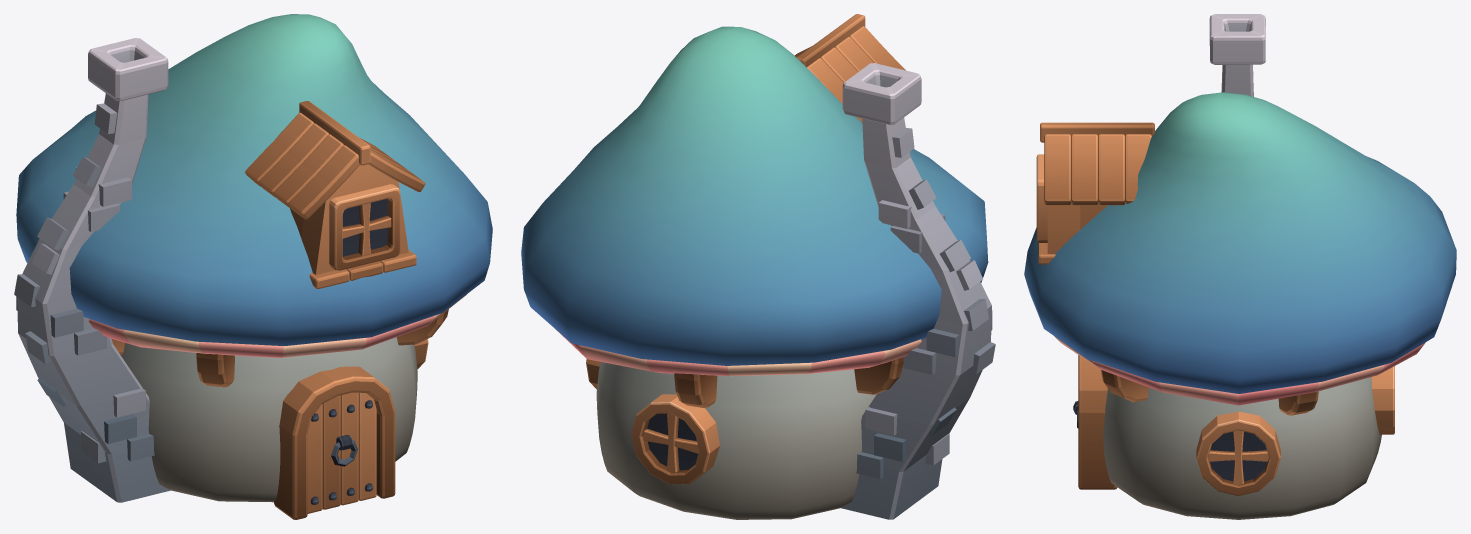
File: mt_house04.fbx
3 views of the same model, side by side, from view 1: azimuth 30°, elevation 25°; view 2: azimuth 150°, elevation 25°; view 3: azimuth 270°, elevation 25° (orthographic). The views are drawn at different scales.
Visible parts, largest first — view 1: h4; view 2: h4; view 3: h4.
Part boxes in pixels (x1,y1,x2,y2): h4: [14, 14, 492, 519]; h4: [521, 14, 995, 519]; h4: [1024, 14, 1456, 519].
Size of the model in its own units: 710 by 659 by 670.
